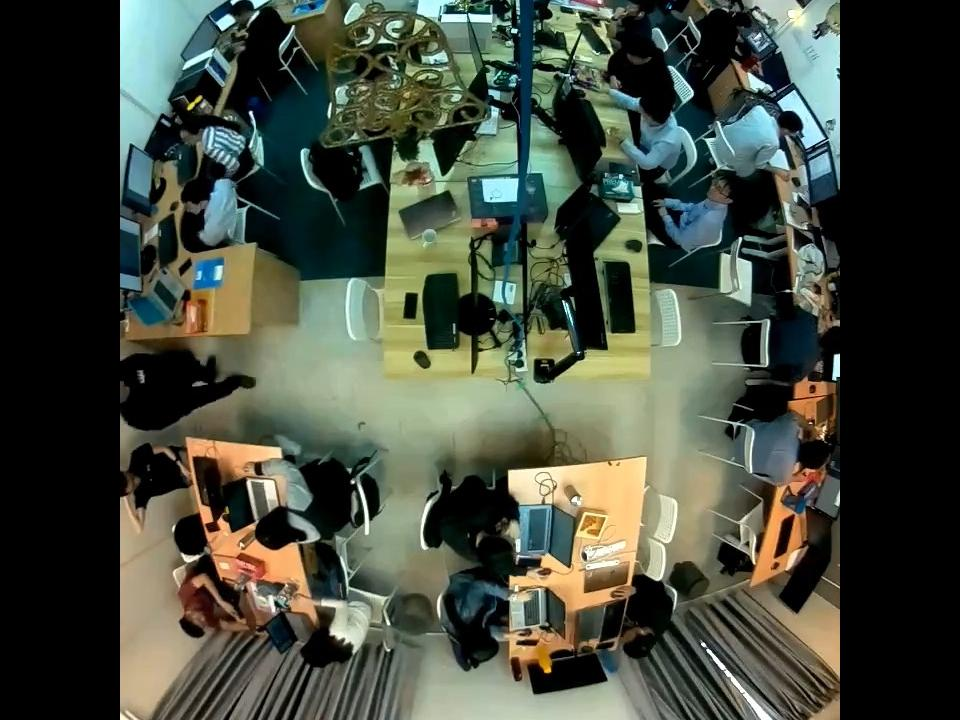name-tag: (136, 368, 146, 384)
